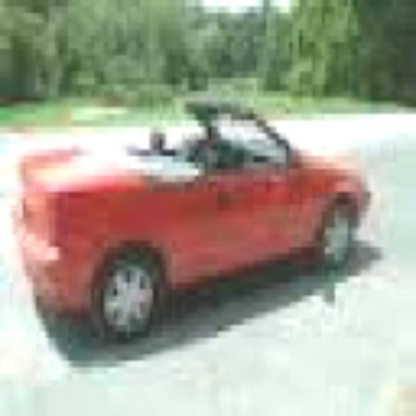Vehicle: (23, 84, 380, 332)
